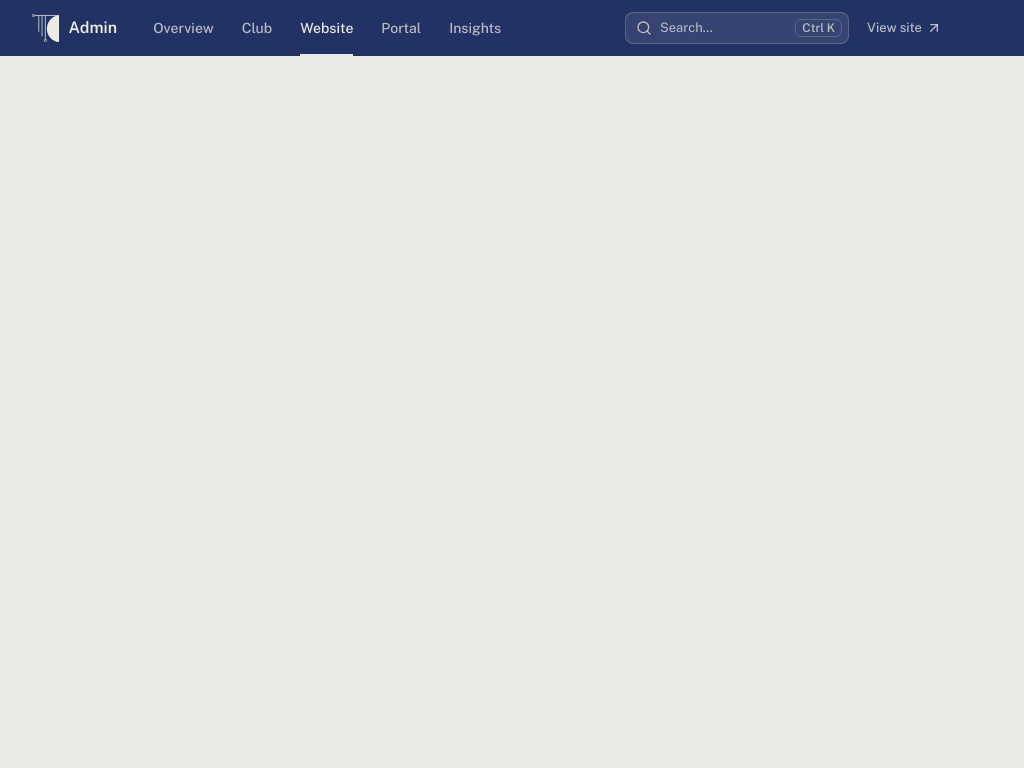
Test: CommandPalette › drops a stale response that lands after a newer query
Press k
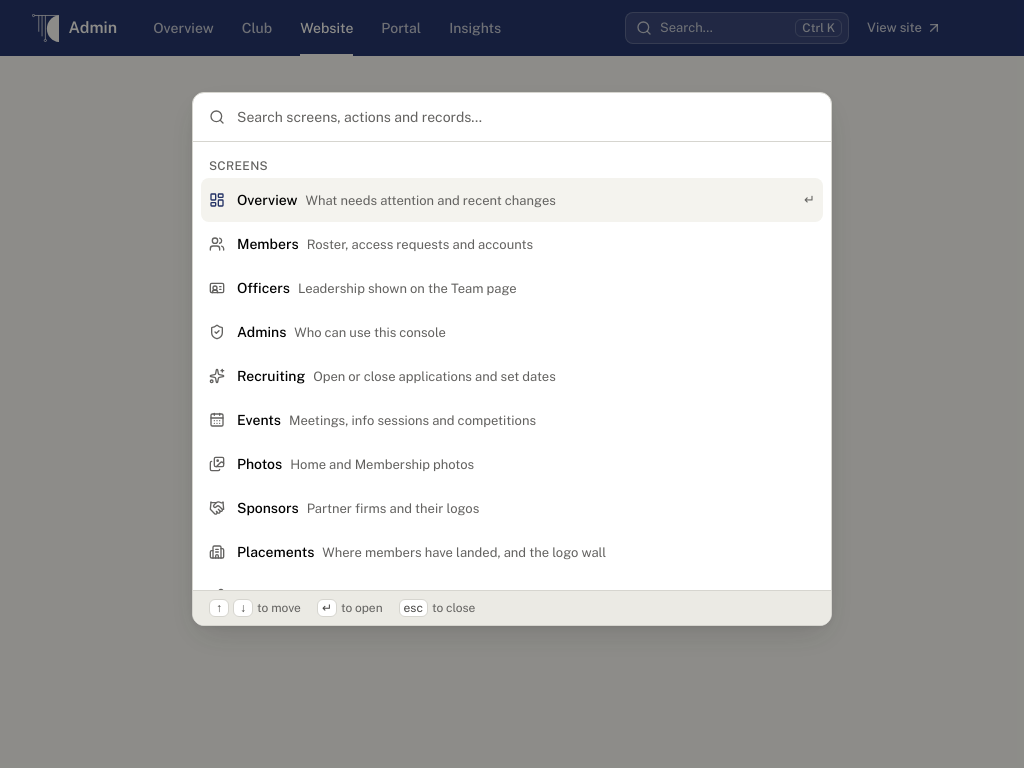
Type "cit" into the dropdown at x=526, y=117, box [237, 93, 815, 141]
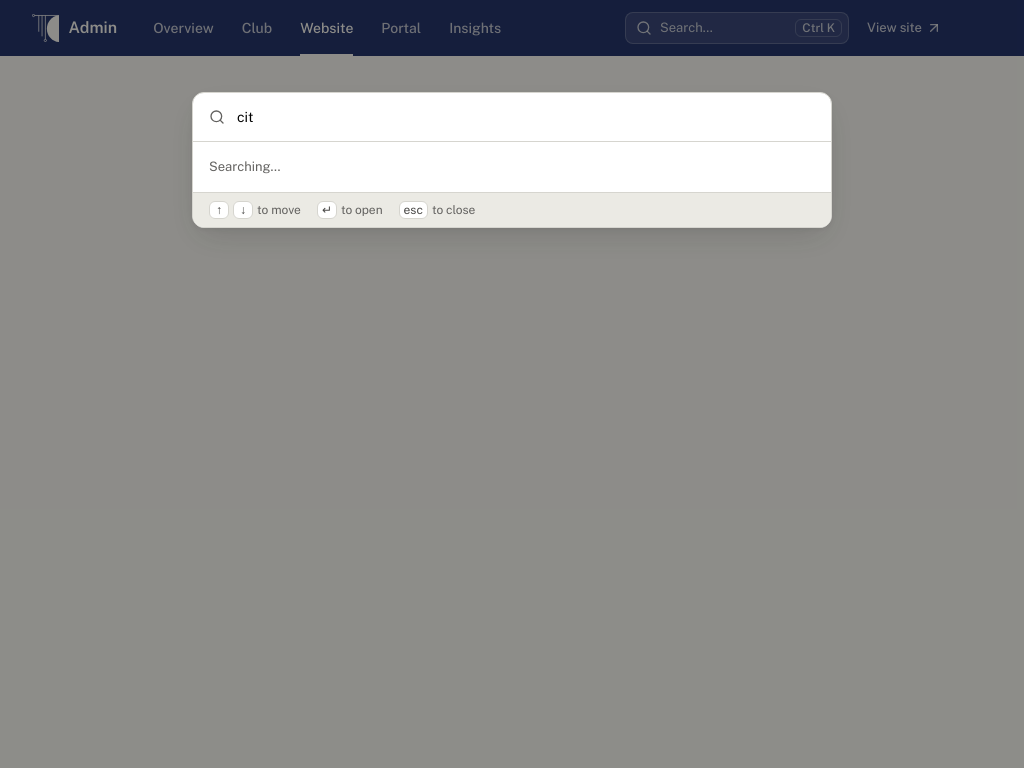
Replace the text in the dropdown with "cita" at x=526, y=117, box [237, 93, 815, 141]
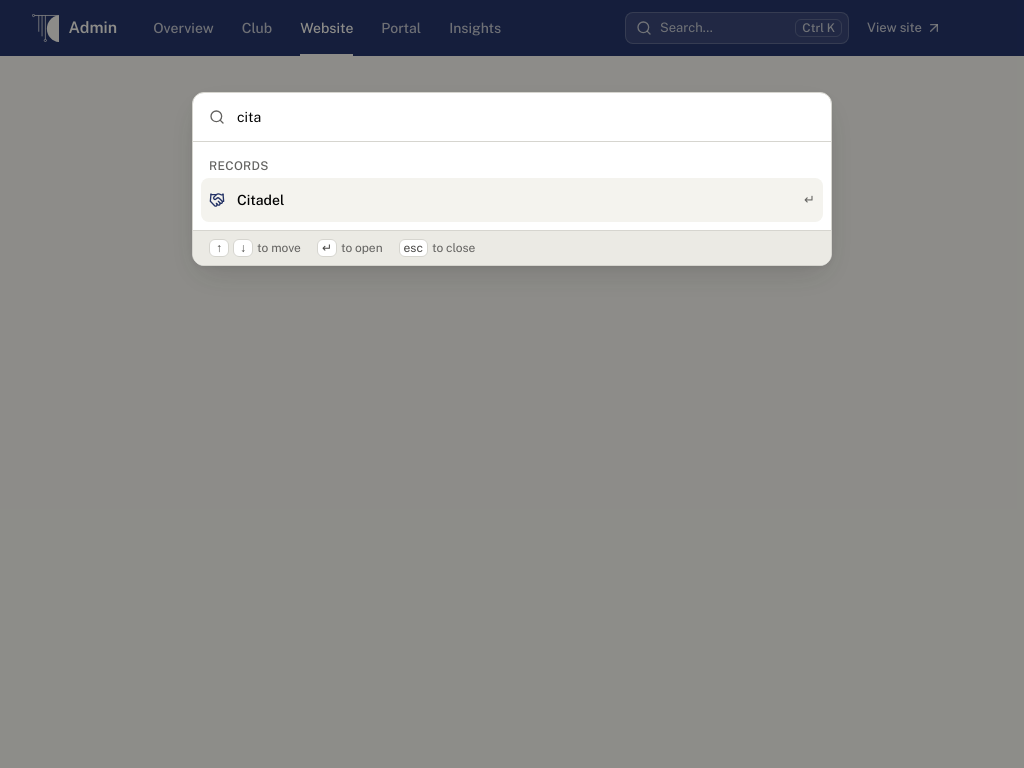
Expected: the option shows "Citadel", [201, 178, 823, 222]
